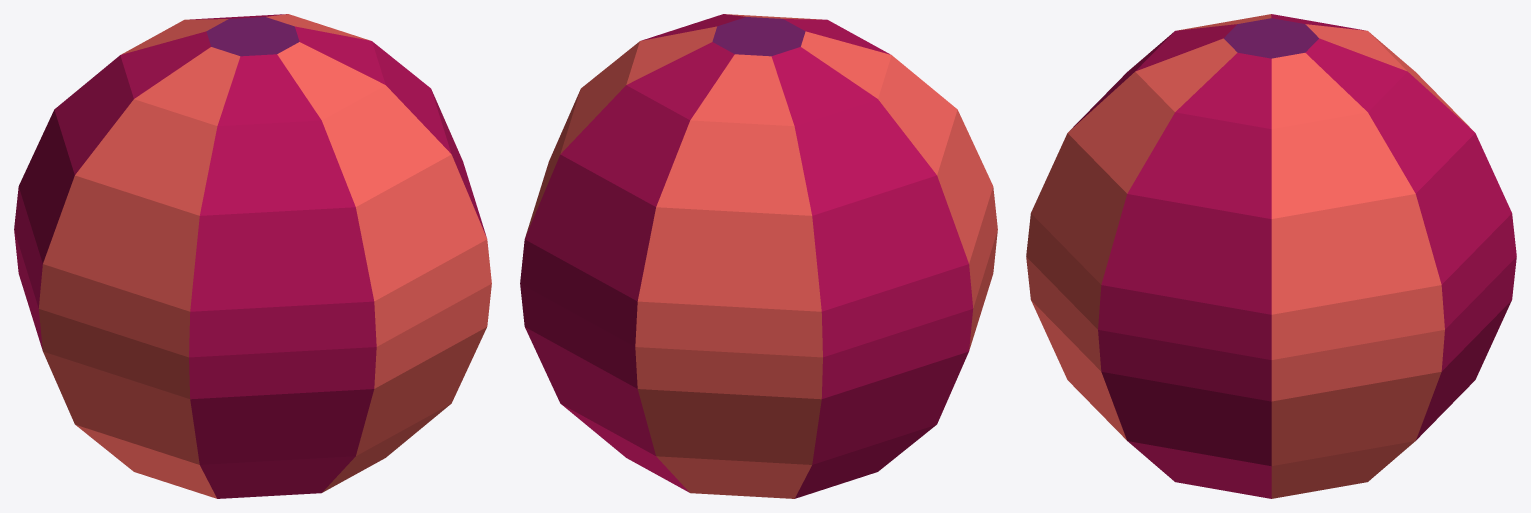
File: BallBig.fbx
3 views of the same model, side by side, from view 1: azimuth 30°, elevation 25°; view 2: azimuth 150°, elevation 25°; view 3: azimuth 270°, elevation 25° (orthographic).
Visible parts, largest first — view 1: Ball-Big; view 2: Ball-Big; view 3: Ball-Big.
Part boxes in pixels (<box>): Ball-Big: <box>14,14,491,498</box>; Ball-Big: <box>520,14,997,498</box>; Ball-Big: <box>1026,14,1516,498</box>.
Size of the model in its own units: 200 by 196 by 200.
